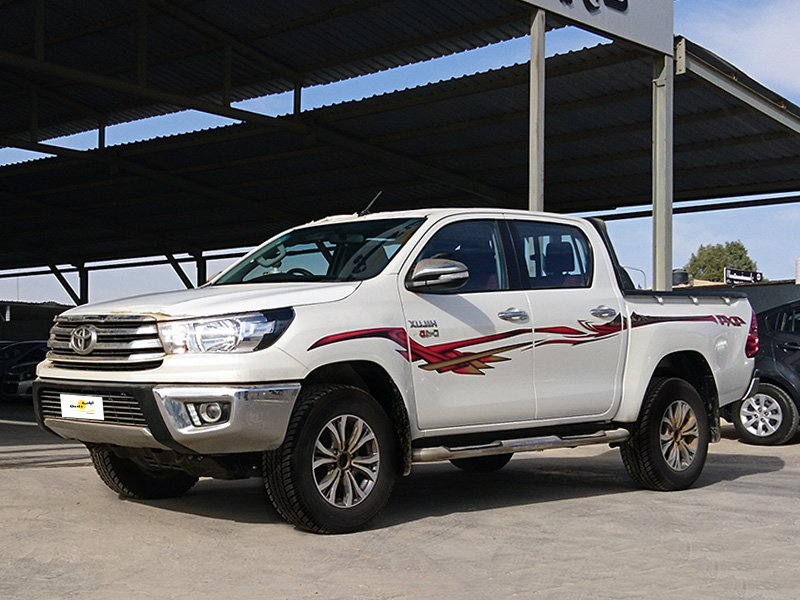other: (40, 205, 746, 522)
